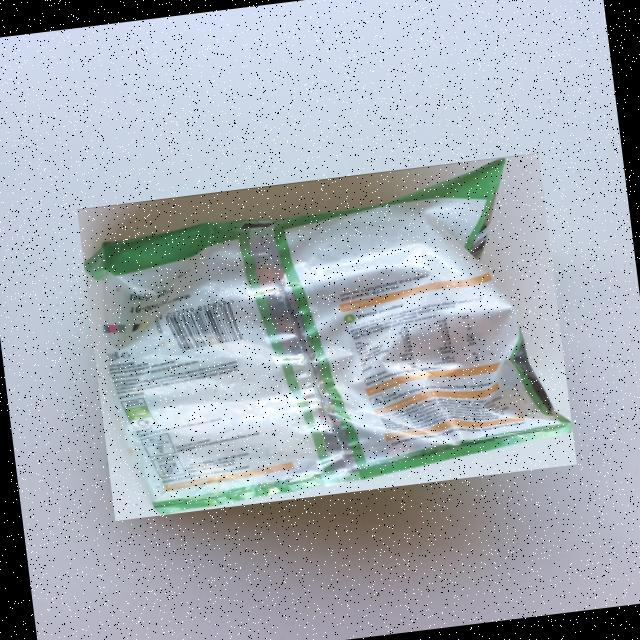Plastic film: (84, 158, 572, 515)
